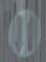Two way: (4, 4, 45, 57)
